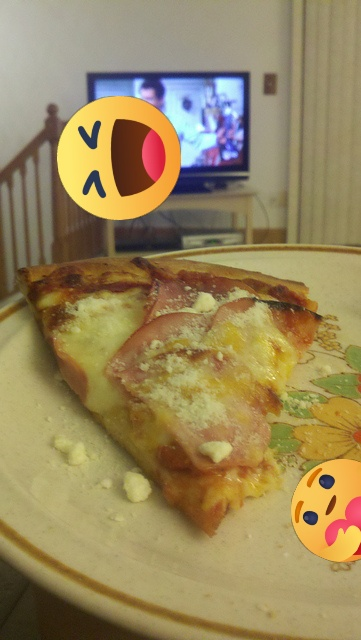care: (291, 459, 361, 562)
haha: (57, 96, 181, 220)
